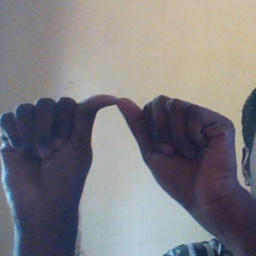A: (2, 91, 238, 216)
